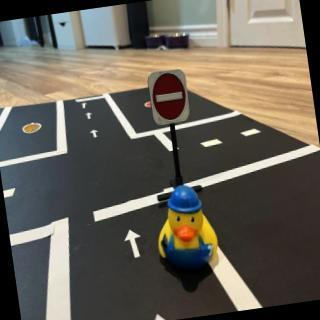duck_specialty: (151, 182, 224, 275)
road_oneway: (120, 223, 146, 264), (88, 125, 101, 141), (85, 110, 96, 123), (80, 102, 90, 112)
sign_noentry: (146, 67, 192, 128)
